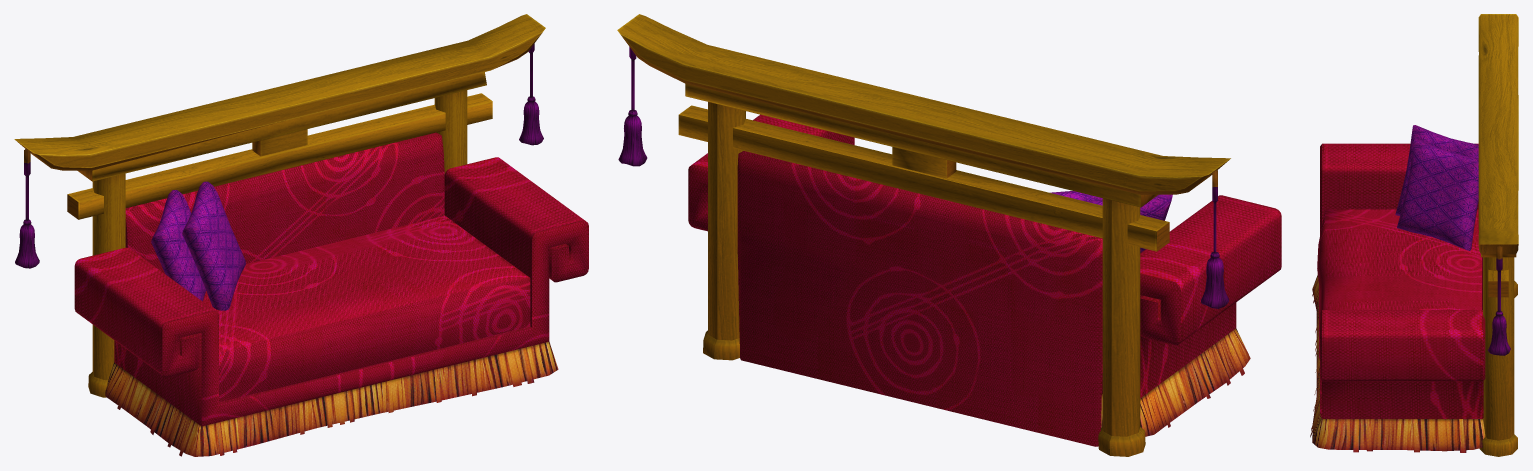
The model's file is chair.dae.
3 renders of one model, left to right at view 1: azimuth 30°, elevation 25°; view 2: azimuth 150°, elevation 25°; view 3: azimuth 270°, elevation 25°, orthographic. The views are drawn at different scales.
Parts seen in each view (by area): view 1: set_chair-geom-P0; view 2: set_chair-geom-P0; view 3: set_chair-geom-P0.
Boxes of the visible parts, x1,y1,x2,y2 form: set_chair-geom-P0: [14, 14, 588, 456]; set_chair-geom-P0: [617, 14, 1281, 456]; set_chair-geom-P0: [1310, 14, 1518, 456].
Bounding box in the file's own units: 3.02 × 1.45 × 1.13.
